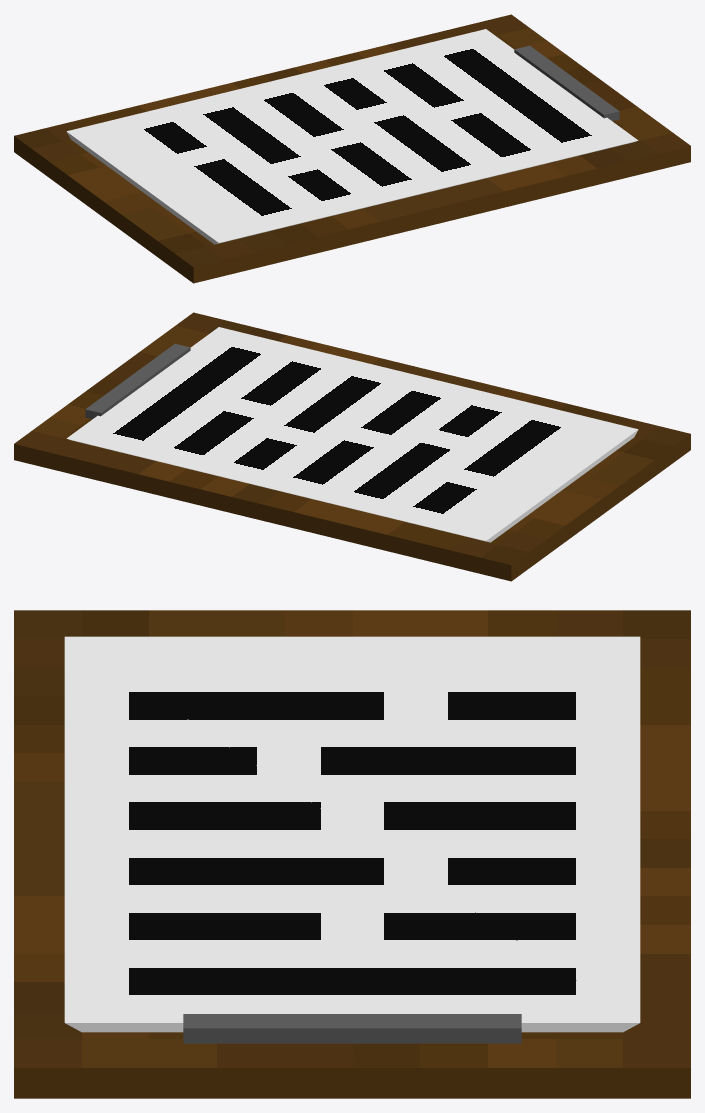
File: clipboard.gltf
3 views of the same model, one above another, from view 1: azimuth 30°, elevation 25°; view 2: azimuth 150°, elevation 25°; view 3: azimuth 270°, elevation 25° (orthographic). The views are drawn at different scales.
Parts seen in each view (by area): view 1: ClipBoard; view 2: ClipBoard; view 3: ClipBoard.
Boxes of the visible parts, bbox=[...] form: ClipBoard: bbox=[14, 14, 690, 283]; ClipBoard: bbox=[14, 312, 690, 581]; ClipBoard: bbox=[14, 610, 690, 1098].
Size of the model in its own units: 1 by 0.0469 by 0.625.
1 material, 1 textured.
